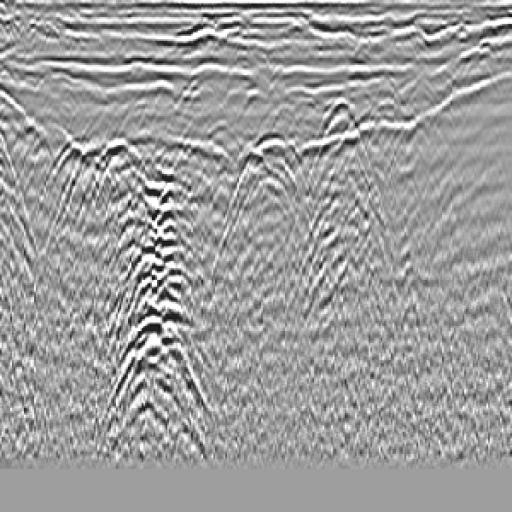metalic: (218, 113, 334, 293)
